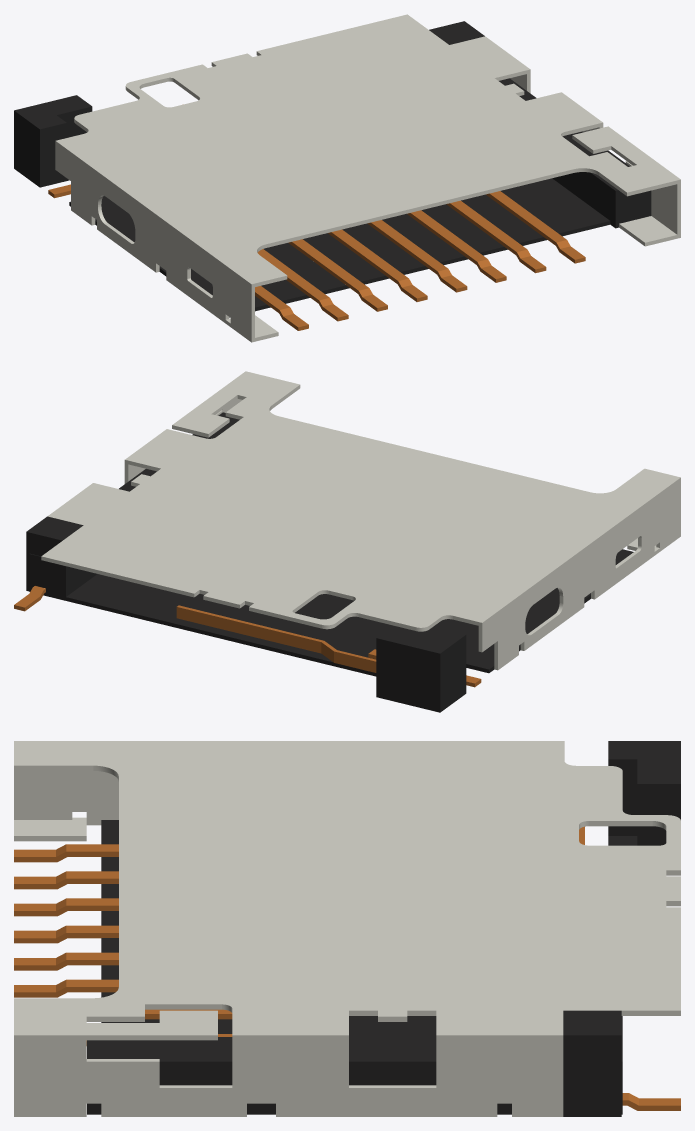
Rendered from kc-microsd_hc_hirose_dm3d-sf.glb.
3 renders of one model, top to bottom at view 1: azimuth 30°, elevation 25°; view 2: azimuth 150°, elevation 25°; view 3: azimuth 270°, elevation 25°, orthographic. The views are drawn at different scales.
Parts seen in each view (by area): view 1: 0.6666666666666666_0.6666666666666666_0.5833333333333334_0.8, 0_0_0_0, 0.5_0.16666666666666666_0_0; view 2: 0.6666666666666666_0.6666666666666666_0.5833333333333334_0.8, 0_0_0_0, 0.5_0.16666666666666666_0_0; view 3: 0.6666666666666666_0.6666666666666666_0.5833333333333334_0.8, 0_0_0_0, 0.5_0.16666666666666666_0_0.
Part boxes in pixels (bbox=[...]): 0.6666666666666666_0.6666666666666666_0.5833333333333334_0.8: bbox=[55, 14, 680, 342]; 0_0_0_0: bbox=[14, 21, 651, 317]; 0.5_0.16666666666666666_0_0: bbox=[48, 184, 585, 330]; 0.6666666666666666_0.6666666666666666_0.5833333333333334_0.8: bbox=[41, 371, 680, 670]; 0_0_0_0: bbox=[26, 412, 633, 712]; 0.5_0.16666666666666666_0_0: bbox=[14, 586, 481, 687]; 0.6666666666666666_0.6666666666666666_0.5833333333333334_0.8: bbox=[14, 741, 680, 1116]; 0_0_0_0: bbox=[87, 741, 680, 1116]; 0.5_0.16666666666666666_0_0: bbox=[14, 826, 680, 1110].
Bounding box in the file's own units: 1.2 × 0.155 × 1.15.
